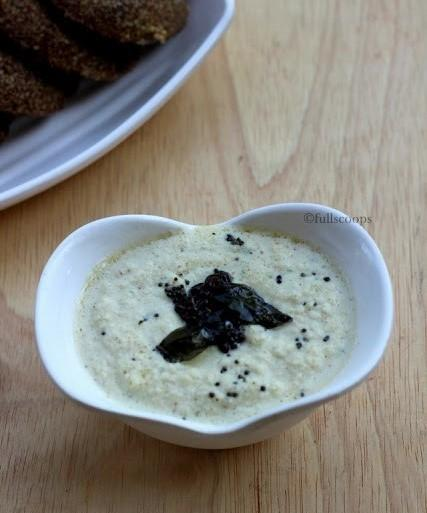CoconutChutney: (78, 228, 344, 419)
